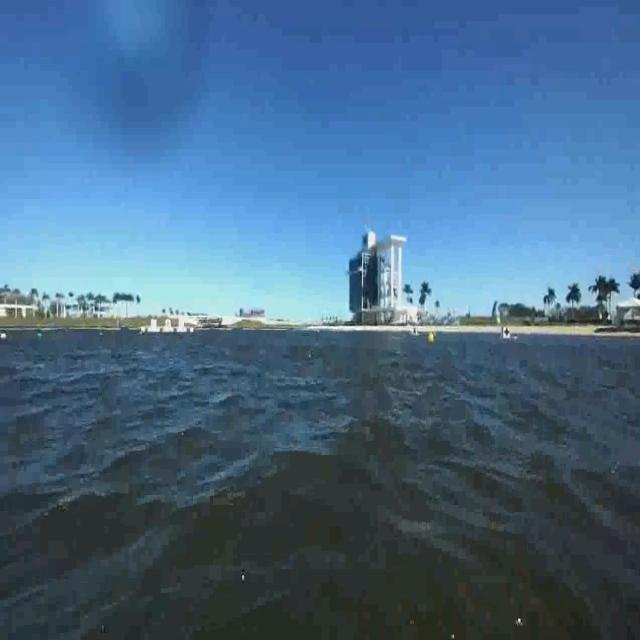yellow-buoy: (427, 332, 436, 347)
